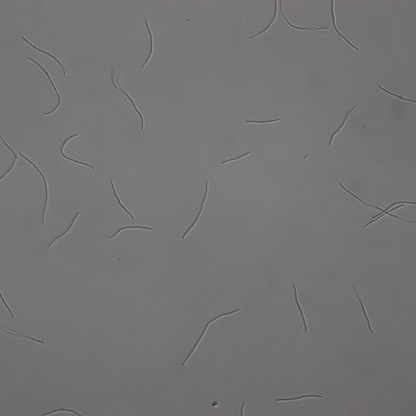Sensitive: (340, 183, 416, 227), (183, 308, 239, 363), (20, 151, 49, 223), (30, 57, 61, 114), (24, 36, 69, 74), (113, 76, 144, 130), (279, 1, 328, 31), (183, 182, 208, 239), (329, 1, 357, 50), (60, 133, 93, 170), (49, 213, 79, 247), (251, 1, 278, 36), (330, 108, 355, 145), (110, 181, 134, 219), (355, 288, 374, 334), (1, 138, 18, 181), (379, 85, 416, 104), (5, 328, 46, 345), (294, 284, 308, 332), (142, 20, 156, 66), (110, 225, 154, 239), (276, 391, 323, 402), (41, 407, 81, 416), (1, 294, 15, 318), (244, 116, 279, 125), (222, 152, 250, 163)
